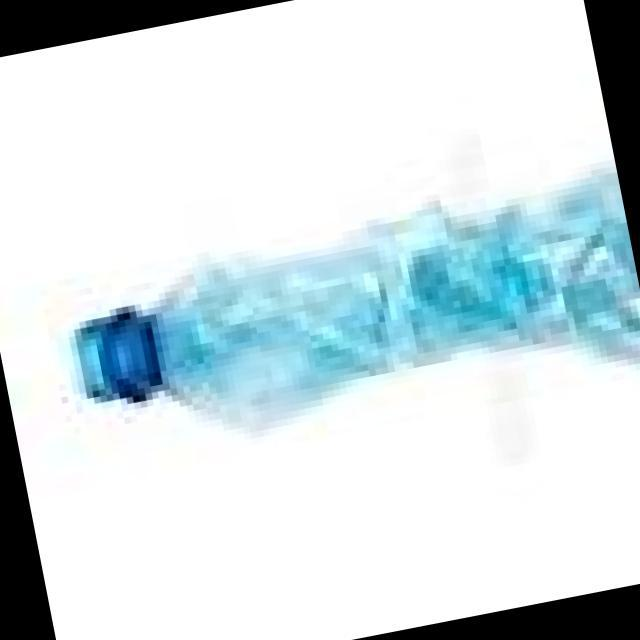defected: (28, 128, 640, 505)
